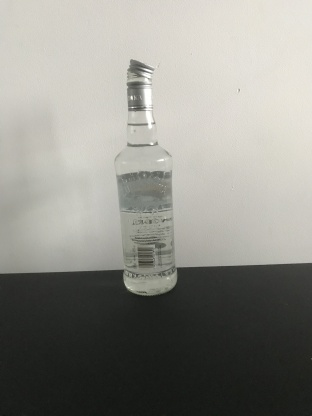nakretka: (125, 57, 155, 110)
